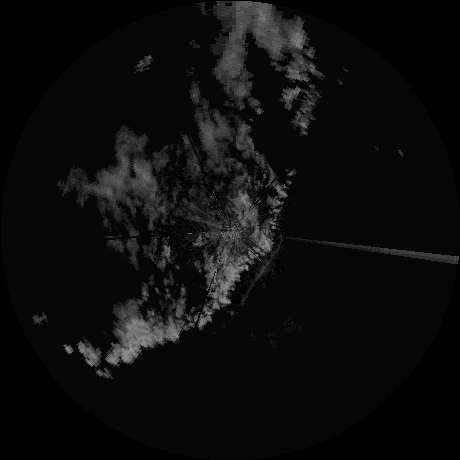frontgust: (245, 226, 280, 300)
